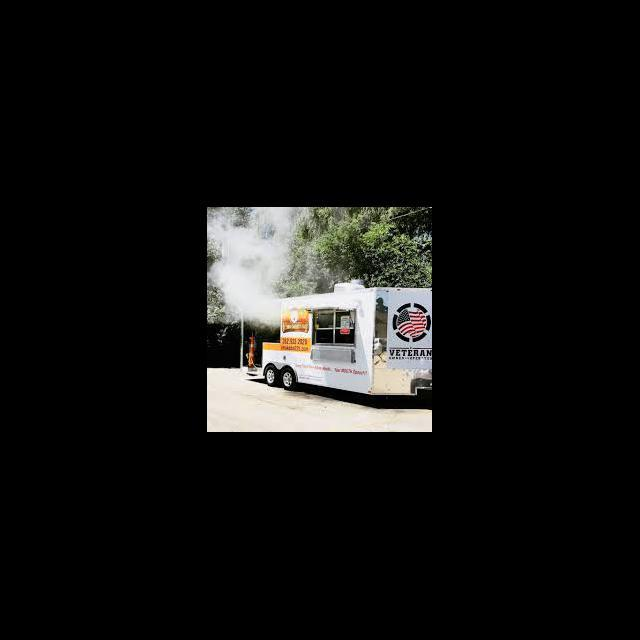Smoke: (208, 208, 299, 328)
